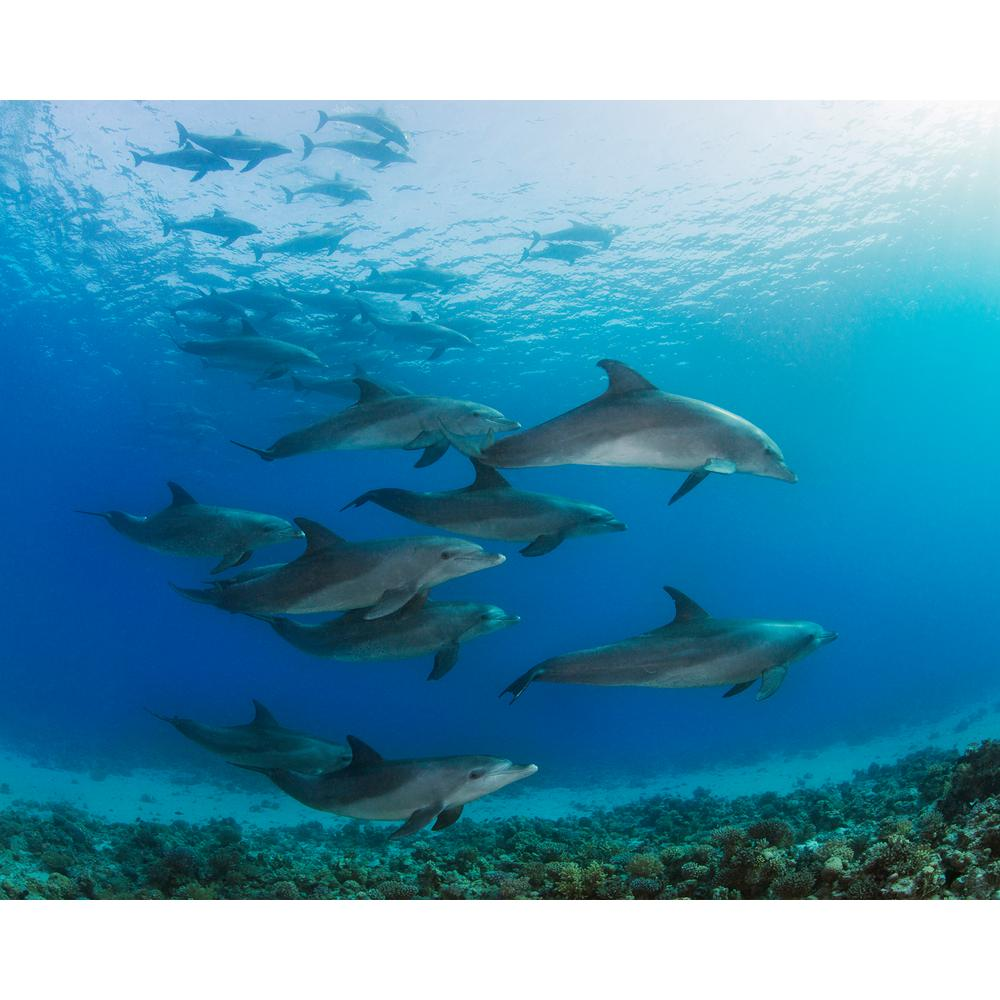dolphin: (454, 349, 814, 511), (494, 576, 874, 709), (174, 503, 526, 615), (245, 733, 564, 845), (229, 374, 530, 460)
